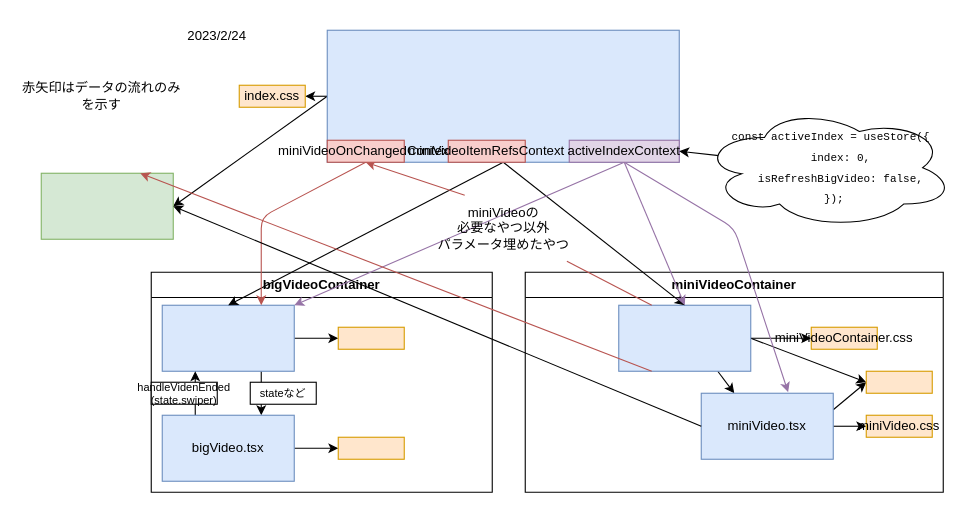
This 974x512 diagram has some shape labels left out. Here are the shapes that lost their labels. From the top down, the box of each, then its label:
(326, 29, 679, 162): index.tsx
(40, 172, 173, 239): onchanged.ts
(161, 304, 294, 371): bigVideoContainer.tsx
(337, 326, 404, 349): bigVideoContainer.css
(618, 304, 751, 371): miniVideoContainer.tsx
(865, 370, 932, 393): swiper.css
(337, 436, 404, 459): bigVideo.css
